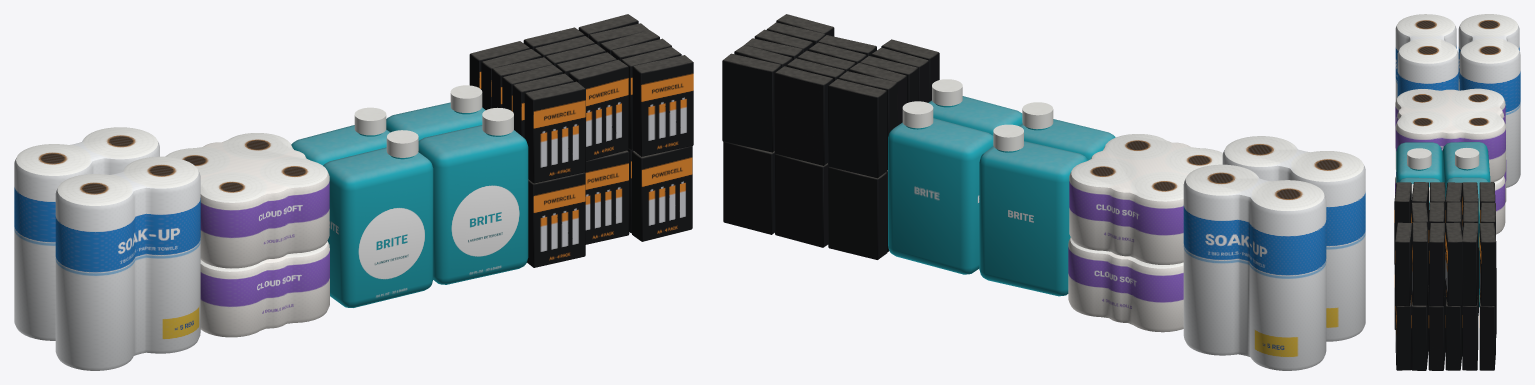
The model's file is SM_Stock_ShelfRow_Household.glb.
3 renders of one model, left to right at view 1: azimuth 30°, elevation 25°; view 2: azimuth 150°, elevation 25°; view 3: azimuth 270°, elevation 25°, orthographic. The views are drawn at different scales.
Visible parts, largest first — view 1: SM_Stock_ShelfRow_Household; view 2: SM_Stock_ShelfRow_Household; view 3: SM_Stock_ShelfRow_Household.
Boxes of the visible parts, x1,y1,x2,y2 form: SM_Stock_ShelfRow_Household: (14, 14, 693, 370); SM_Stock_ShelfRow_Household: (722, 14, 1365, 370); SM_Stock_ShelfRow_Household: (1394, 14, 1520, 370).
Bounding box in the file's own units: 1.07 × 0.2803 × 0.2477.
1 material, 1 textured.
